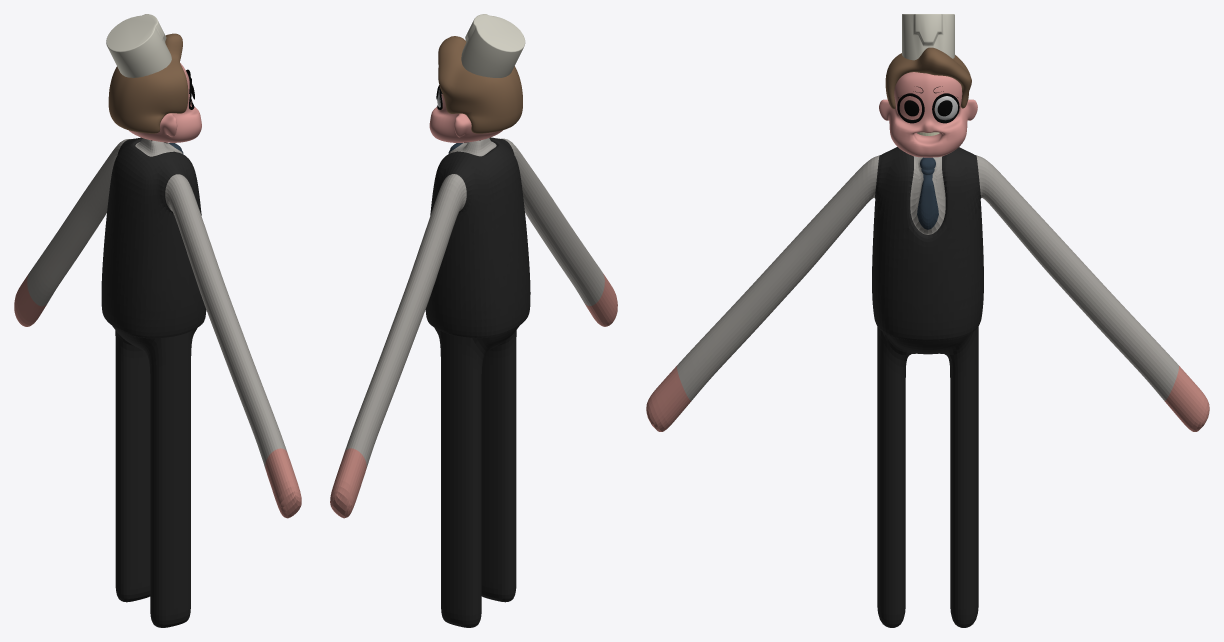
Rendered from HellPlayer_FirstDraft.fbx.
3 views of the same model, side by side, from view 1: azimuth 30°, elevation 25°; view 2: azimuth 150°, elevation 25°; view 3: azimuth 270°, elevation 25° (orthographic). The views are drawn at different scales.
Parts seen in each view (by area): view 1: tou, xia; view 2: tou, xia; view 3: tou, xia.
Boxes of the visible parts, bbox=[...] form: tou: bbox=[14, 14, 301, 518]; xia: bbox=[112, 326, 197, 627]; tou: bbox=[330, 14, 617, 518]; xia: bbox=[434, 326, 519, 627]; tou: bbox=[646, 14, 1209, 431]; xia: bbox=[877, 326, 978, 627].
Bounding box in the file's own units: 48.63 × 314 × 263.
